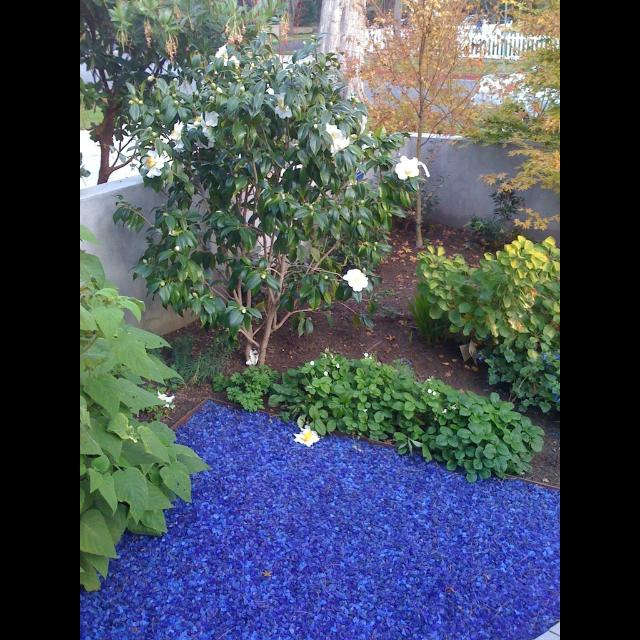Flower: (136, 146, 174, 184), (323, 126, 357, 158), (168, 121, 195, 153), (214, 42, 244, 70), (194, 126, 220, 154), (344, 268, 370, 294), (399, 155, 431, 175), (296, 424, 324, 446), (390, 160, 418, 180), (152, 388, 178, 408), (204, 109, 222, 123), (244, 350, 256, 368), (263, 88, 275, 96)
